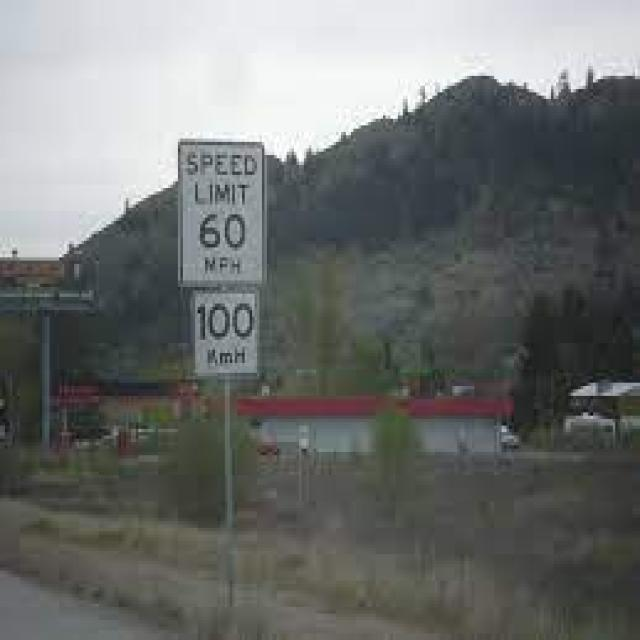speedLimit60: (180, 135, 267, 284)
